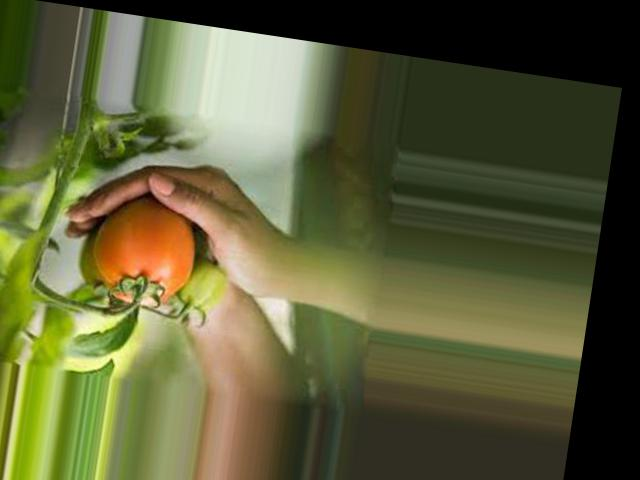tomato: (88, 195, 201, 310)
